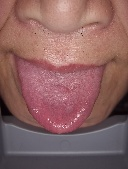tongue: (15, 74, 101, 135)
